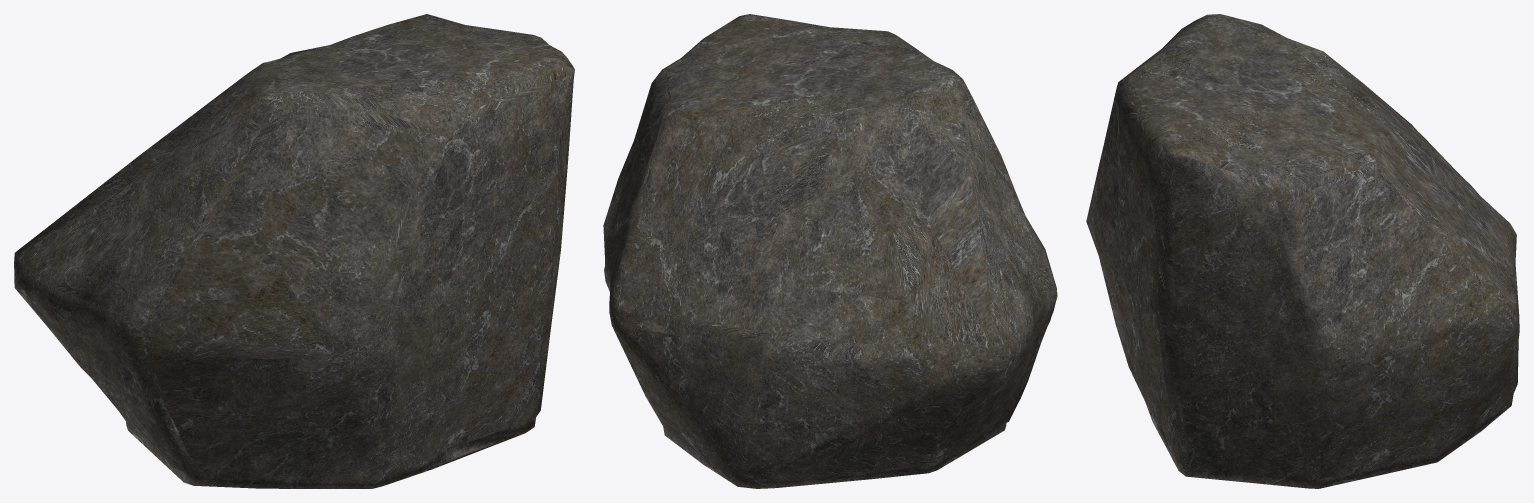
Rendered from granite_boulder_LOD1.fbx.
The picture shows the model from 3 angles, left to right: view 1: azimuth 30°, elevation 25°; view 2: azimuth 150°, elevation 25°; view 3: azimuth 270°, elevation 25°; orthographic projection. The views are drawn at different scales.
Parts seen in each view (by area): view 1: granite_boulder_LOD1; view 2: granite_boulder_LOD1; view 3: granite_boulder_LOD1.
Part boxes in pixels (x1,y1,x2,y2): granite_boulder_LOD1: (14,14,574,488); granite_boulder_LOD1: (603,14,1057,488); granite_boulder_LOD1: (1086,14,1519,488).
Size of the model in its own units: 310 by 225 by 250.
